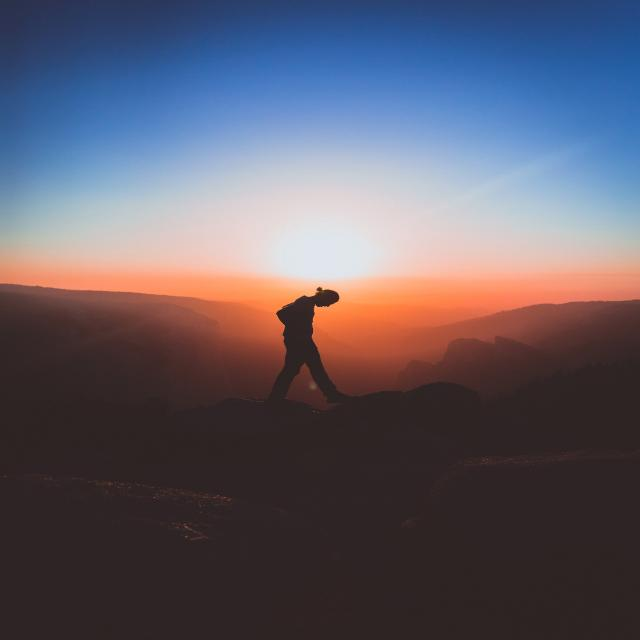adult: (269, 288, 358, 406)
